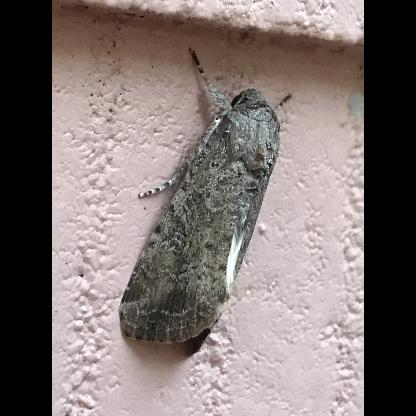Fall Armyworm Moth: (116, 44, 296, 362)
